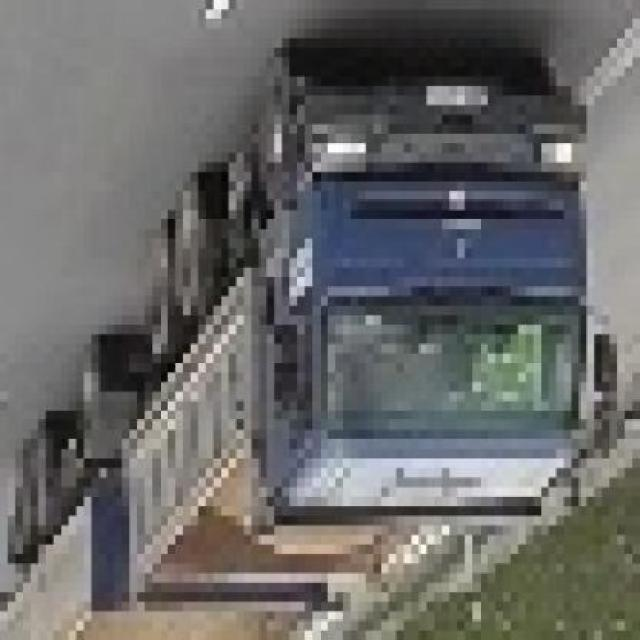truck: (1, 58, 610, 640)
